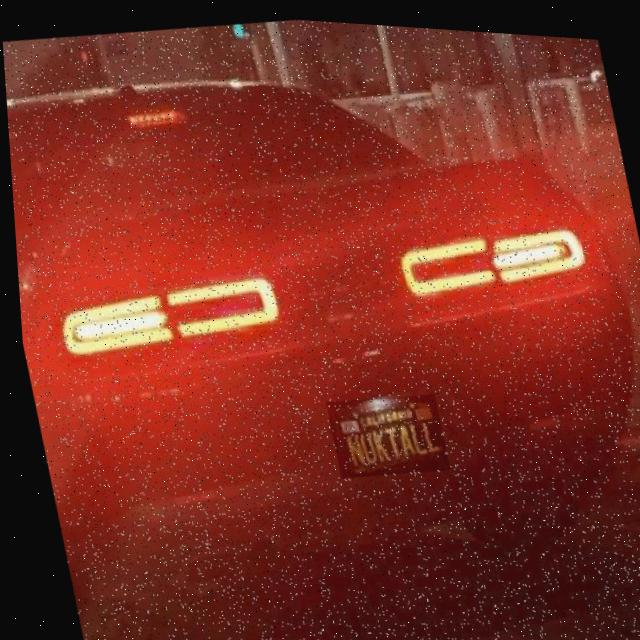LicensePlate: (323, 389, 442, 473)
